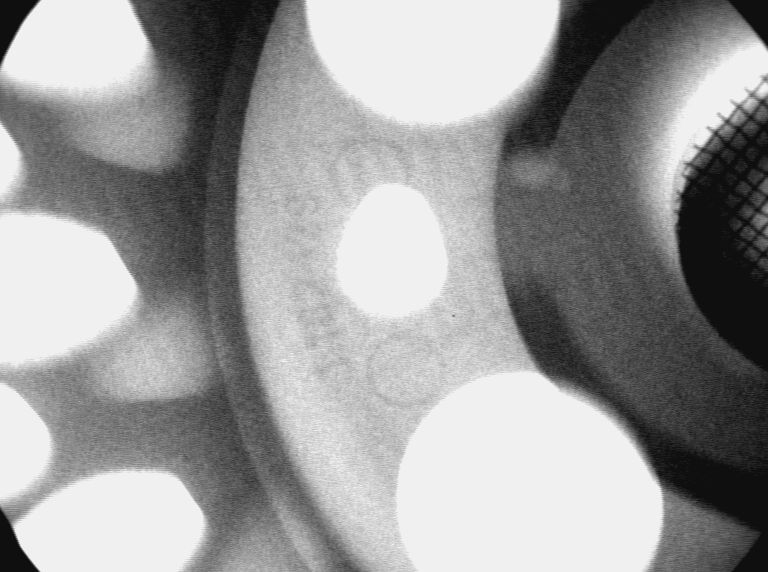defect: (515, 145, 569, 195)
